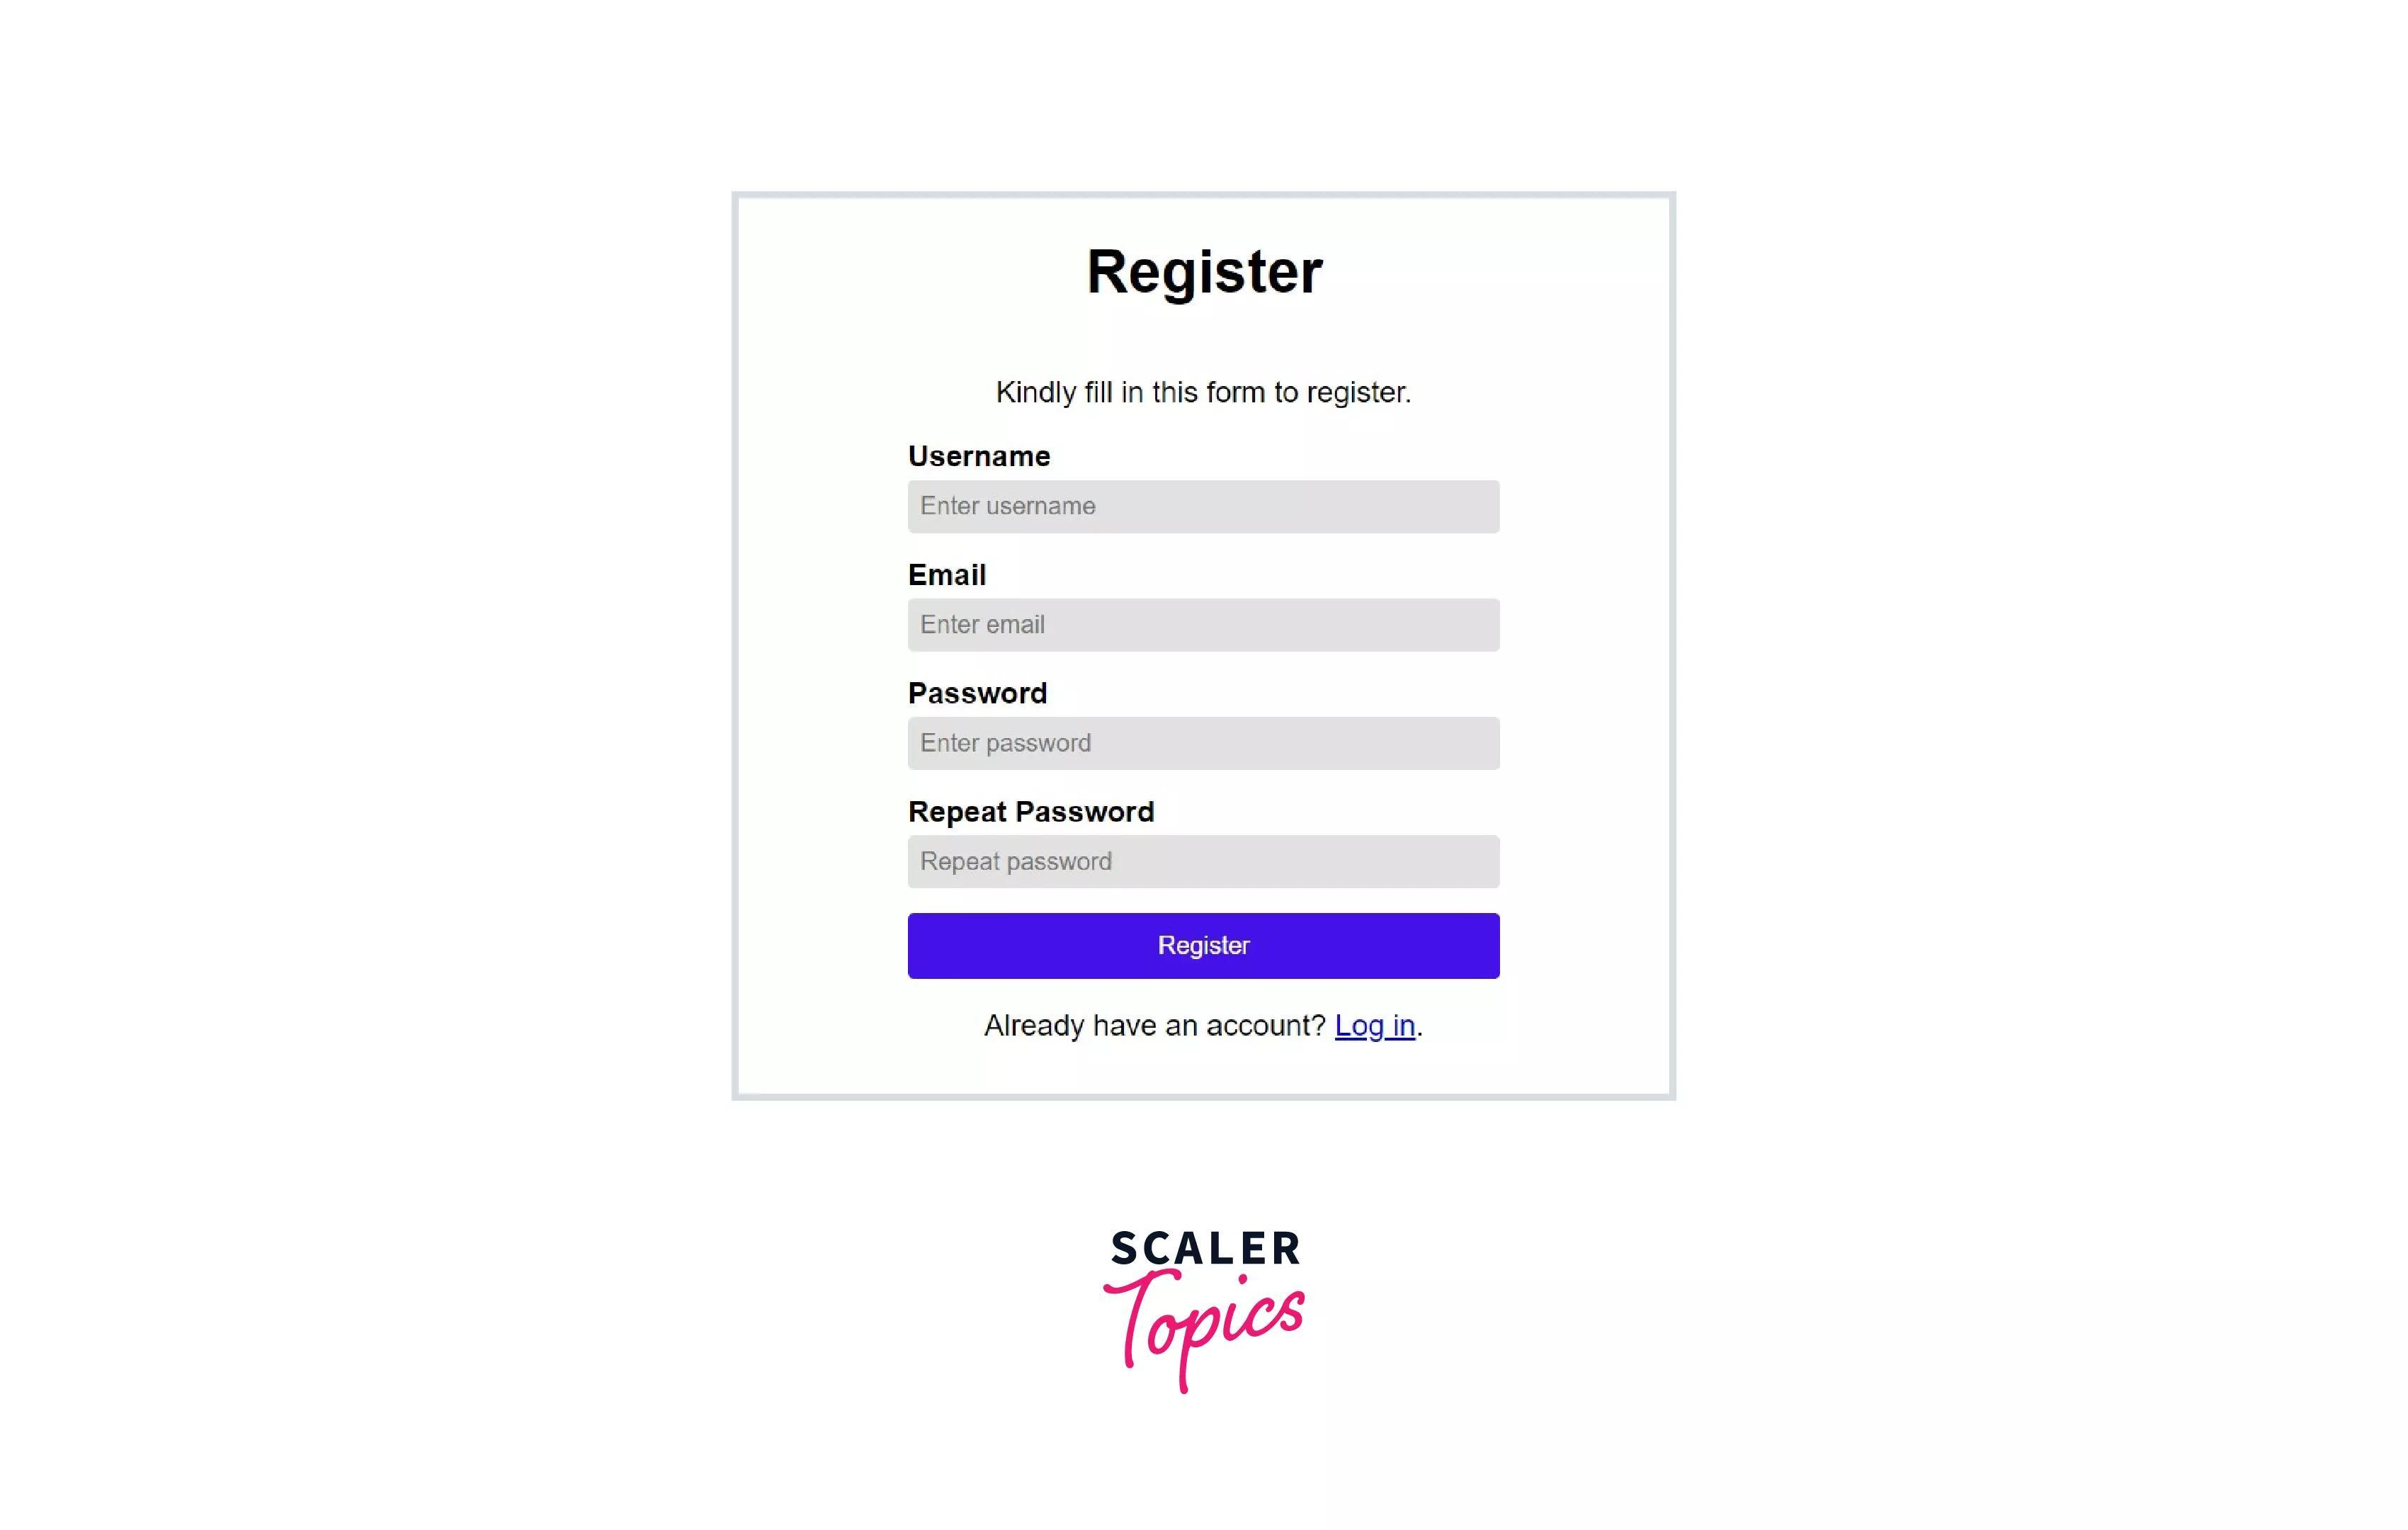input: (906, 912, 1504, 983), (906, 475, 1504, 537), (906, 714, 1501, 774), (907, 598, 1504, 656), (906, 833, 1502, 890)
